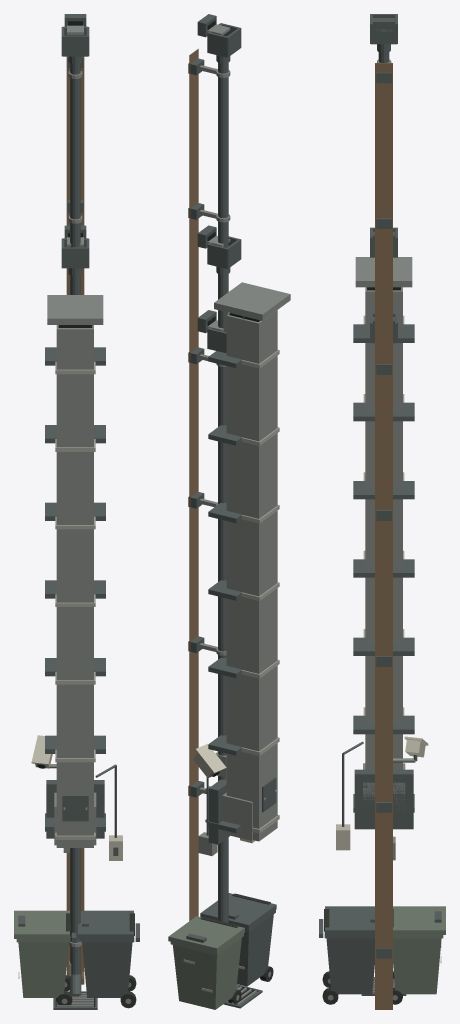
The model's file is exterior-infrastructure.glb.
3 renders of one model, left to right at view 1: azimuth 90°, elevation 25°; view 2: azimuth 150°, elevation 25°; view 3: azimuth 270°, elevation 25°, orthographic.
Parts seen in each view (by area): view 1: lyric_extract_stack, lyric_service_bins, ellery_academic_rainwater, ellery_school_rainwater, lyric_service_camera, ellery_baths_rainwater; view 2: lyric_extract_stack, ellery_academic_rainwater, lyric_service_bins, ellery_school_rainwater, ellery_baths_rainwater, lyric_service_camera; view 3: ellery_academic_rainwater, lyric_extract_stack, lyric_service_bins, ellery_baths_rainwater, ellery_school_rainwater, lyric_service_camera.
Part boxes in pixels (x1,y1,x2,y2): lyric_extract_stack: (45, 295, 122, 860); lyric_service_bins: (14, 910, 139, 1008); ellery_academic_rainwater: (53, 14, 97, 1009); ellery_school_rainwater: (61, 225, 89, 982); lyric_service_camera: (31, 735, 69, 852); ellery_baths_rainwater: (66, 848, 84, 984); lyric_extract_stack: (208, 282, 290, 844); ellery_academic_rainwater: (188, 14, 262, 1008); lyric_service_bins: (168, 893, 276, 1009); ellery_school_rainwater: (189, 225, 241, 922); ellery_baths_rainwater: (189, 310, 228, 921); lyric_service_camera: (193, 743, 226, 855); ellery_academic_rainwater: (361, 14, 406, 1009); lyric_extract_stack: (336, 257, 414, 850); lyric_service_bins: (319, 906, 445, 1004); ellery_baths_rainwater: (370, 313, 397, 1009); ellery_school_rainwater: (370, 227, 397, 1009); lyric_service_camera: (393, 736, 428, 860).
Size of the model in its own units: 1.25 by 13.81 by 1.62.
